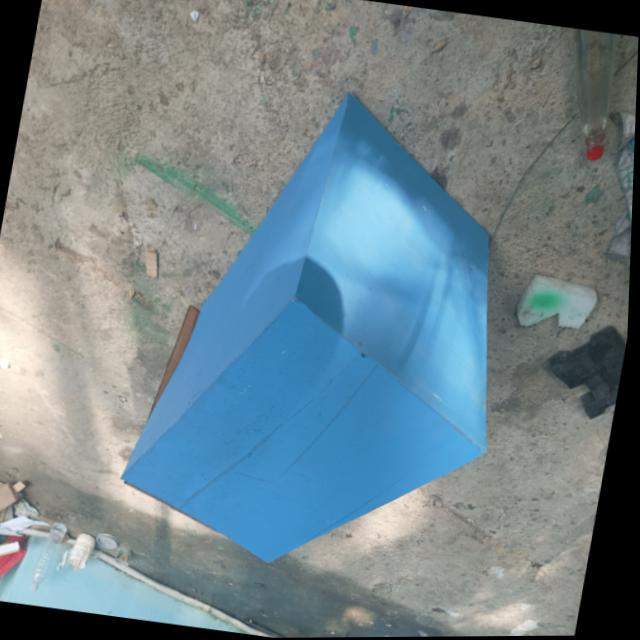blue_box: (110, 85, 546, 599)
